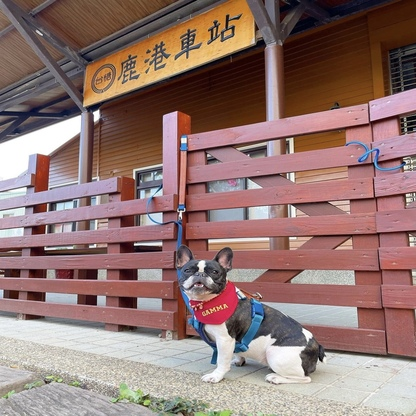bulldog: (173, 244, 331, 386)
